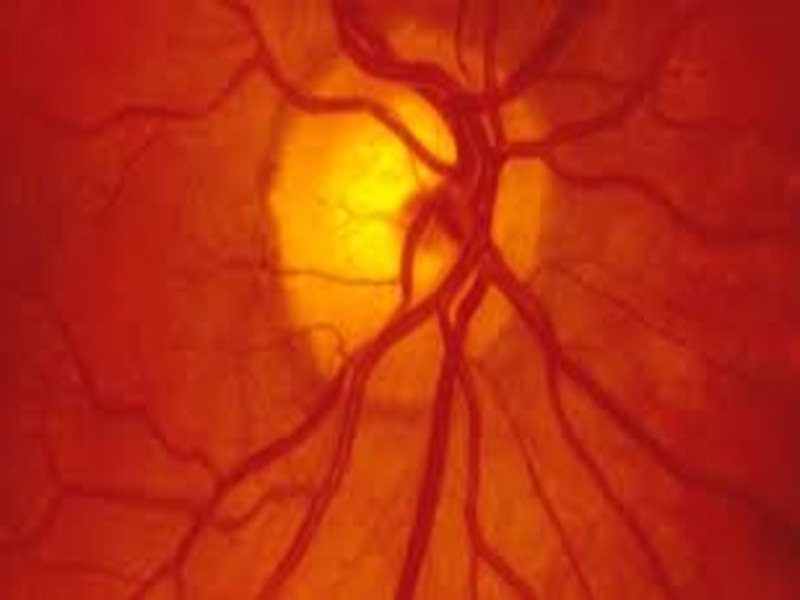Optic Cup: (328, 142, 408, 267)
Optic Disc: (268, 27, 541, 378)
